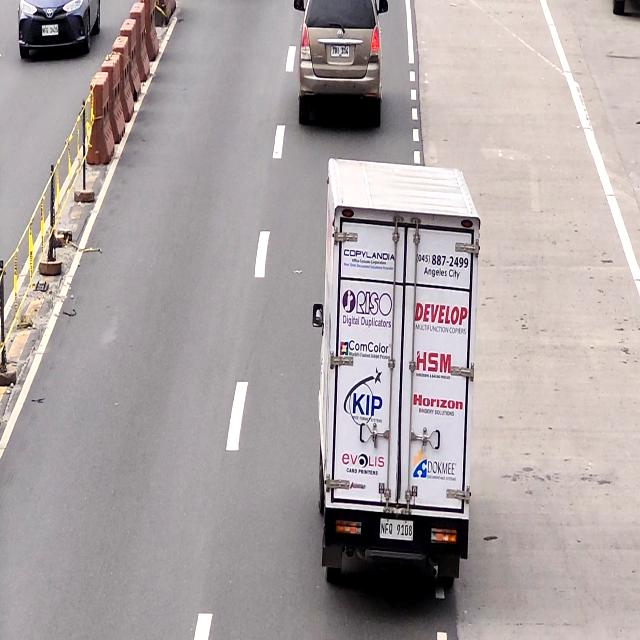Car: (297, 0, 382, 126)
License-Plate: (378, 519, 415, 545), (330, 44, 350, 58)
Truck: (320, 159, 466, 604)
